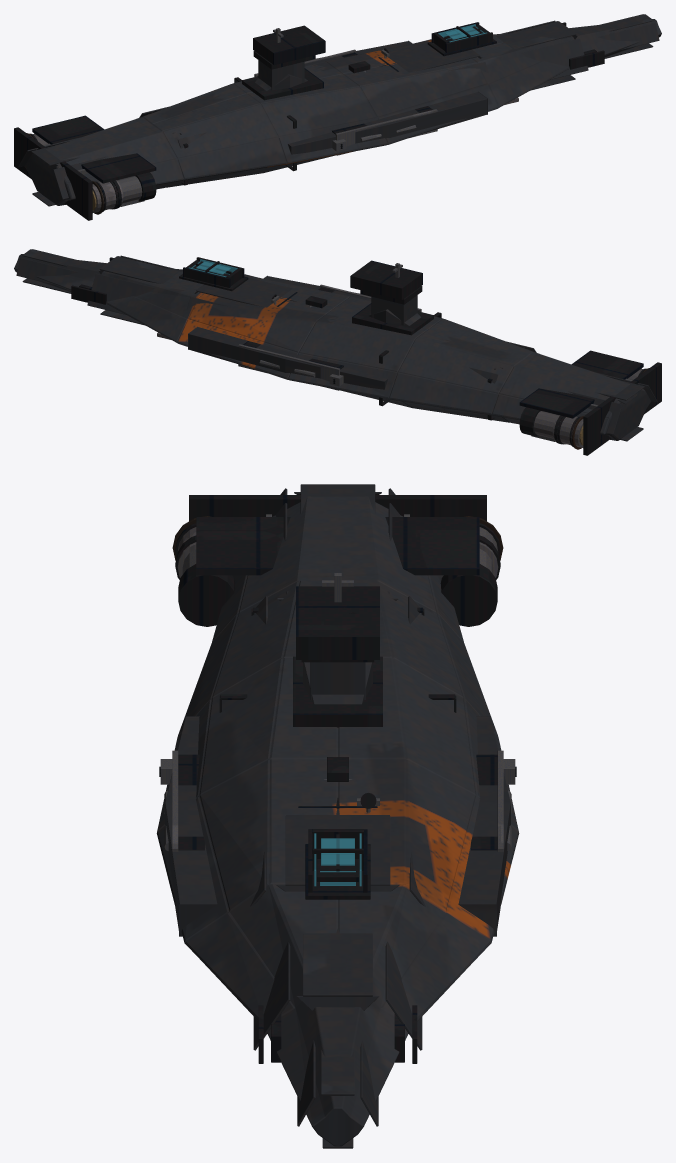
The model's file is warden_production_v1_lod2.glb.
The picture shows the model from 3 angles, top to bottom: view 1: azimuth 30°, elevation 25°; view 2: azimuth 150°, elevation 25°; view 3: azimuth 270°, elevation 25°; orthographic projection. The views are drawn at different scales.
Visible parts, largest first — view 1: LOD2_Hull, LOD2_Armor, LOD2_Mechanical, LOD2_Canopy; view 2: LOD2_Hull, LOD2_Armor, LOD2_Mechanical, LOD2_Canopy; view 3: LOD2_Hull, LOD2_Armor, LOD2_Mechanical, LOD2_Canopy.
Boxes of the visible parts, x1,y1,x2,y2 form: LOD2_Hull: (18,14,661,206); LOD2_Armor: (14,22,604,220); LOD2_Mechanical: (32,28,518,212); LOD2_Canopy: (438,24,486,42); LOD2_Hull: (14,249,657,441); LOD2_Armor: (71,257,661,455); LOD2_Mechanical: (157,263,643,447); LOD2_Canopy: (189,259,237,277); LOD2_Hull: (156,484,519,1148); LOD2_Armor: (175,495,500,1063); LOD2_Mechanical: (160,514,515,851); LOD2_Canopy: (314,833,361,886).
Size of what is drawn, in the model's own units: 19.56 by 3.89 by 4.99.
8 materials, 8 textured.
